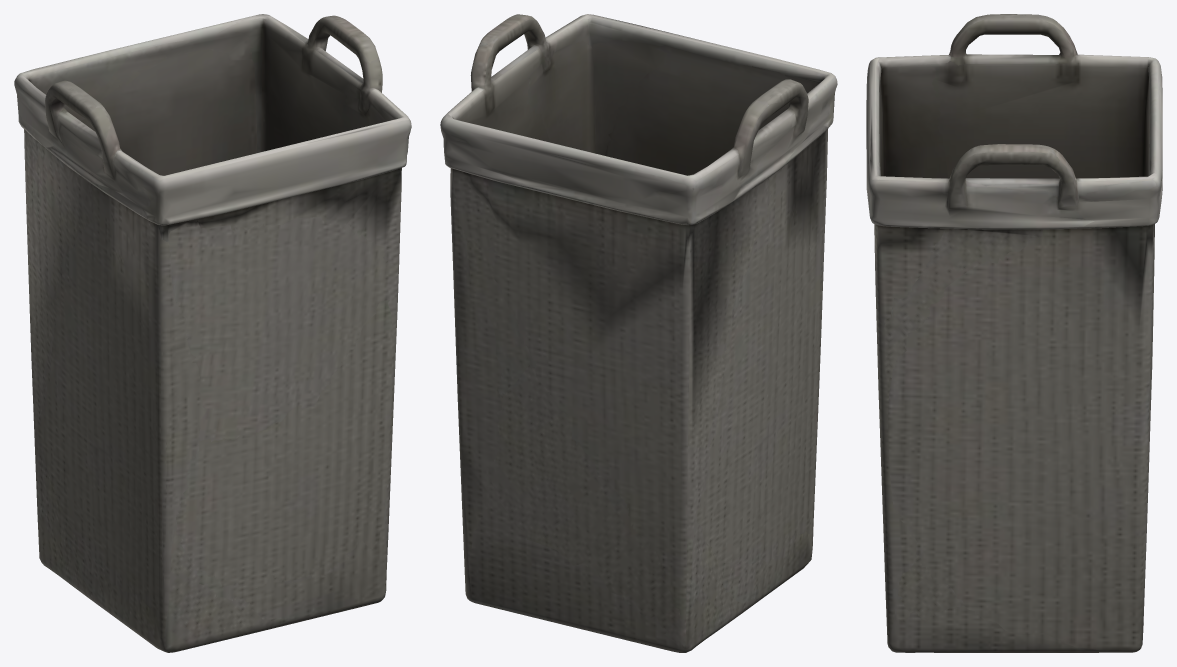
File: hamper-lite.glb
The picture shows the model from 3 angles, left to right: view 1: azimuth 30°, elevation 25°; view 2: azimuth 150°, elevation 25°; view 3: azimuth 270°, elevation 25°; orthographic projection.
Parts seen in each view (by area): view 1: node_0; view 2: node_0; view 3: node_0.
Boxes of the visible parts, bbox=[...] form: node_0: bbox=[14, 14, 411, 652]; node_0: bbox=[440, 14, 837, 652]; node_0: bbox=[866, 14, 1162, 652].
Size of the model in its own units: 0.5942 by 1.03 by 0.5336.
1 material, 1 textured.
